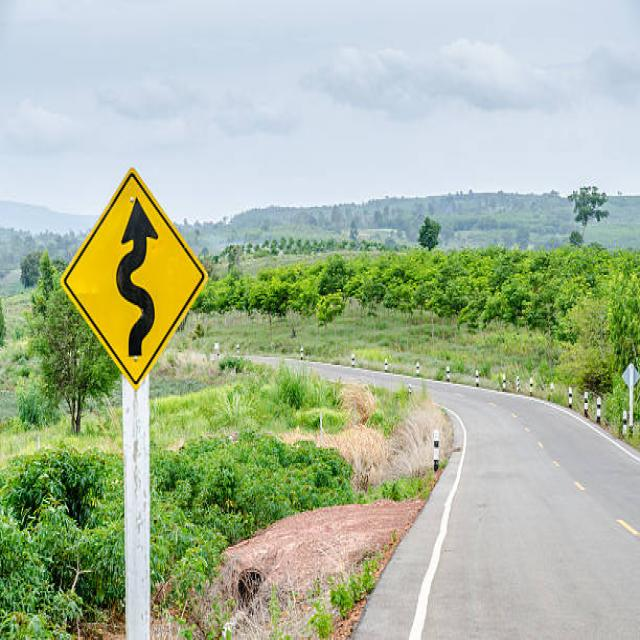left_sharp_curve: (55, 147, 218, 395)
